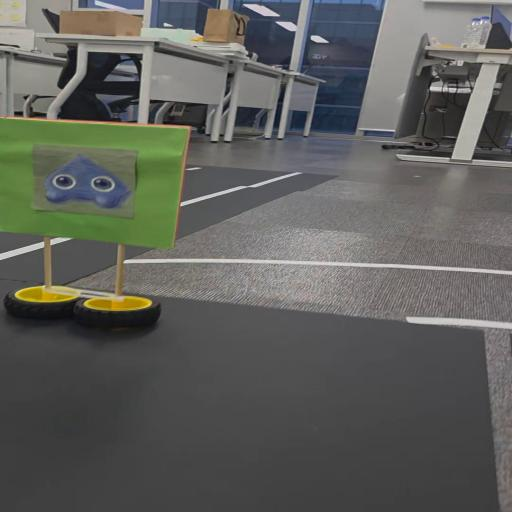Sign_B: (5, 111, 213, 337)
